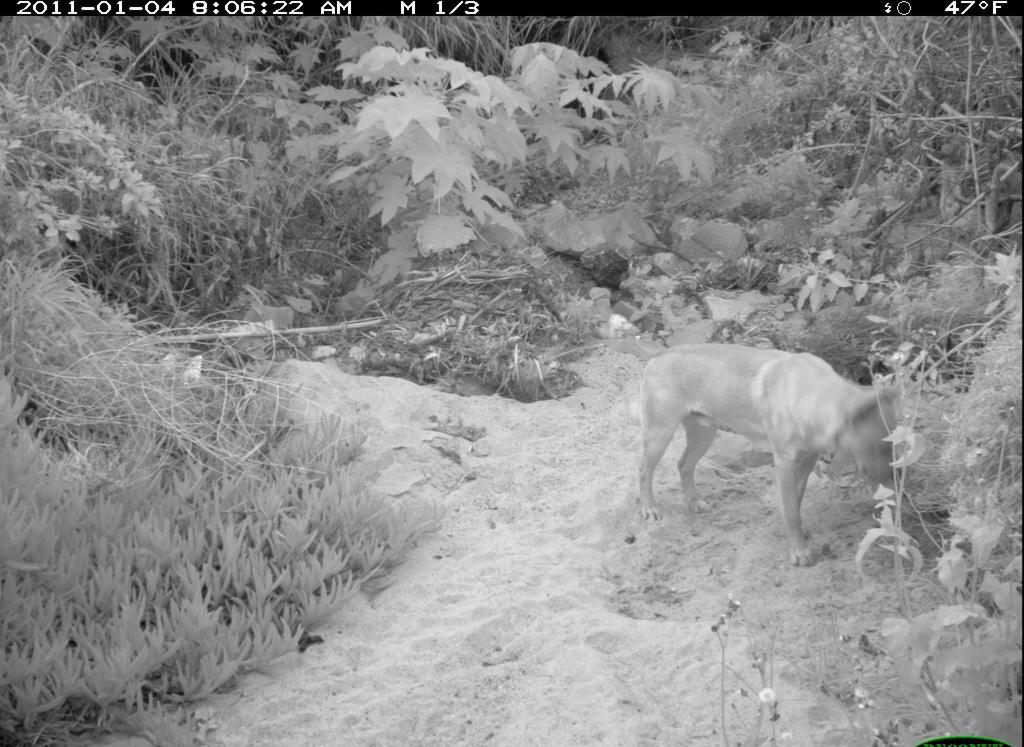dog: (630, 327, 921, 570)
